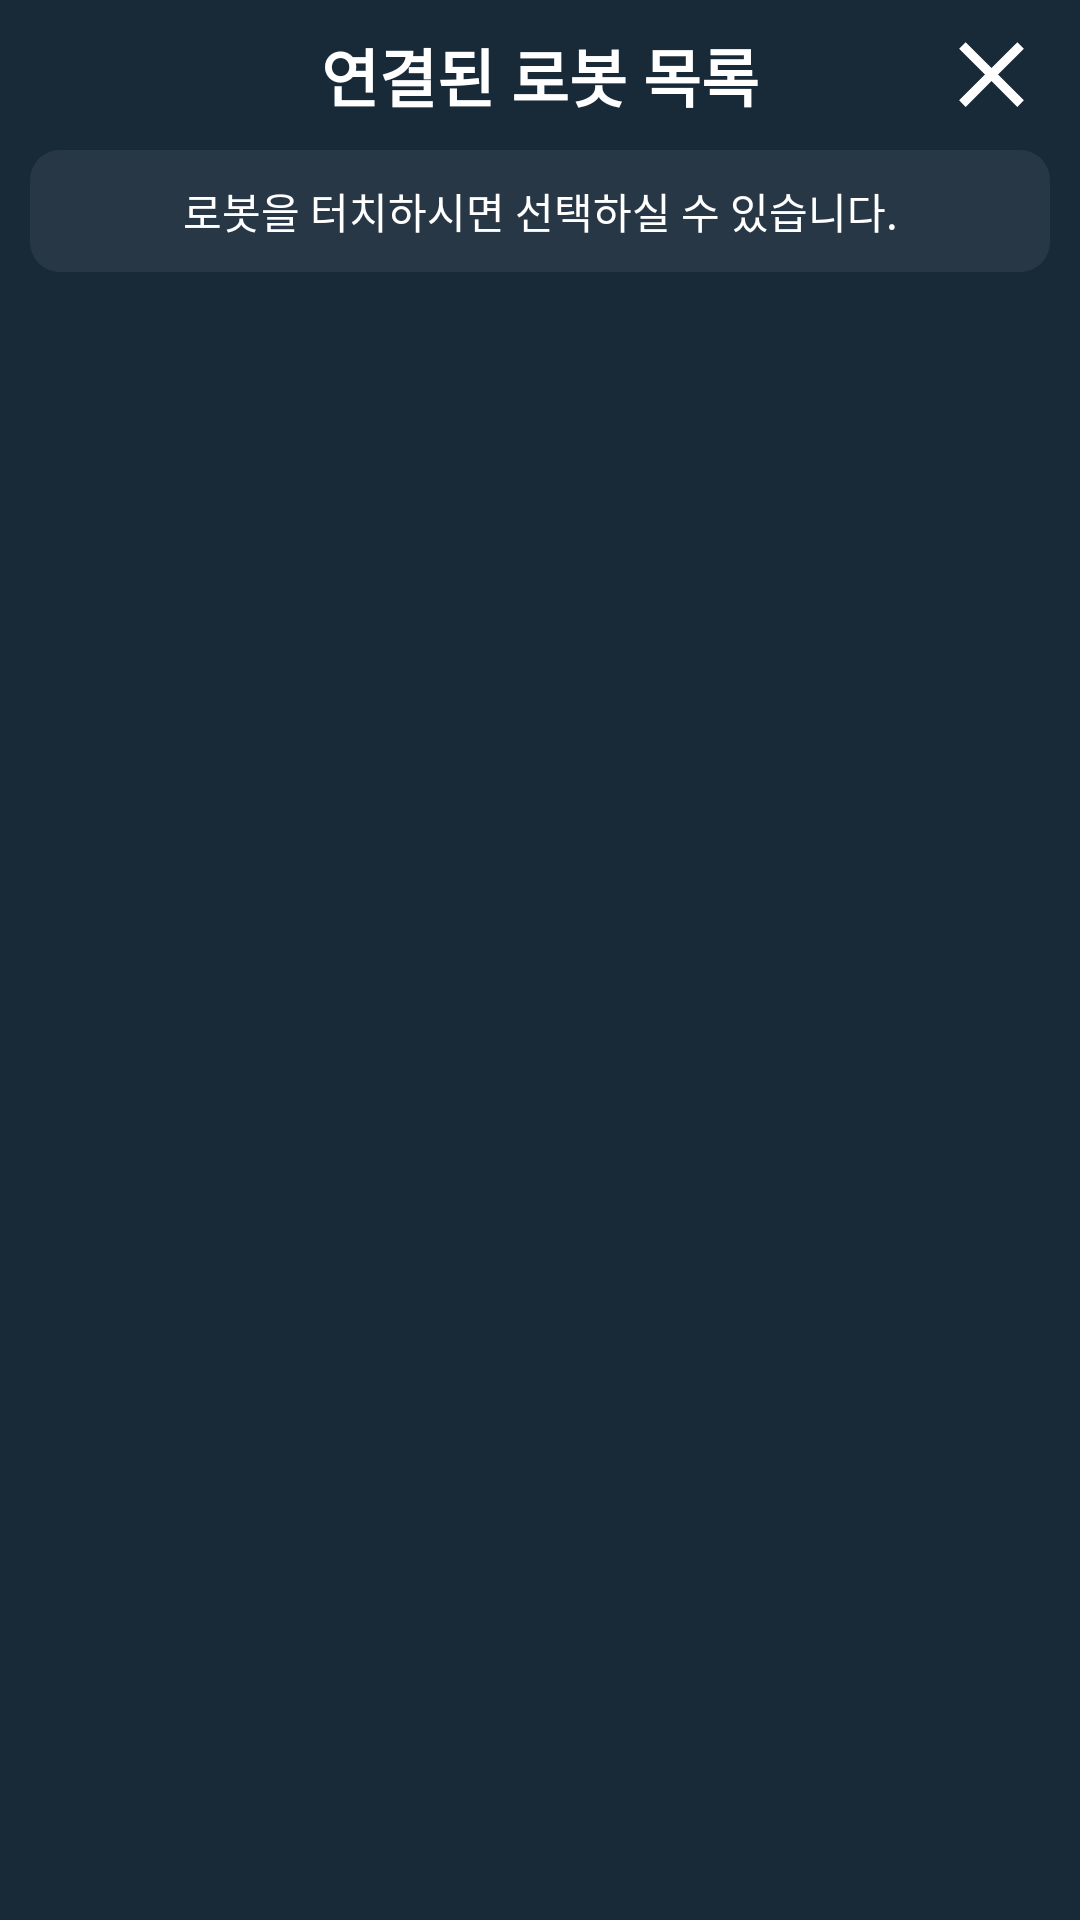

Named icons in this screenshot (1080×1920) and their centers, [x,y]:
close: [991,74]
